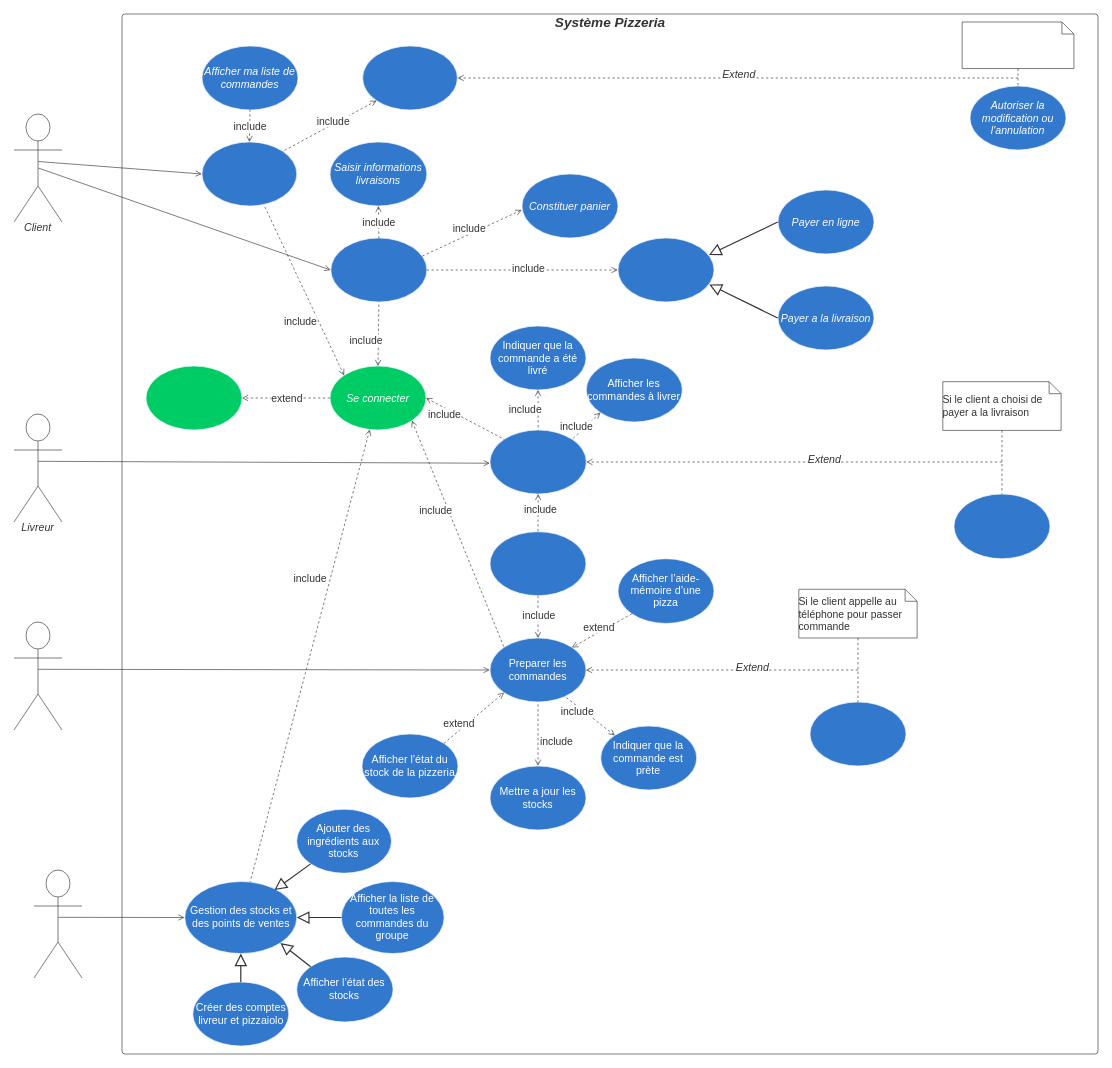
Image size: 1112x1068. Some labels were removed from this diagram. Here are the shapes that lost their labels. From the top down, the centre of each, then its label:
At [1017,44]: "Si la commande n'a pas été préparé".
At [409,77]: "Verifier le statut de la commande".
At [249,173]: "Modifier ou Annuler commande".
At [378,269]: "Passer commande".
At [665,269]: "Payer la commande".
At [193,397]: "S'inscrire".
At [537,461]: "Livrer commande".
At [1001,526]: "Le livreur encaisse le client".
At [537,563]: "Afficher la liste de commandes de la pizzeria".
At [37,675]: "Pizzaiolo".
At [857,733]: "Enregistrer une commande sur le systéme".
At [57,923]: "Responsable".
